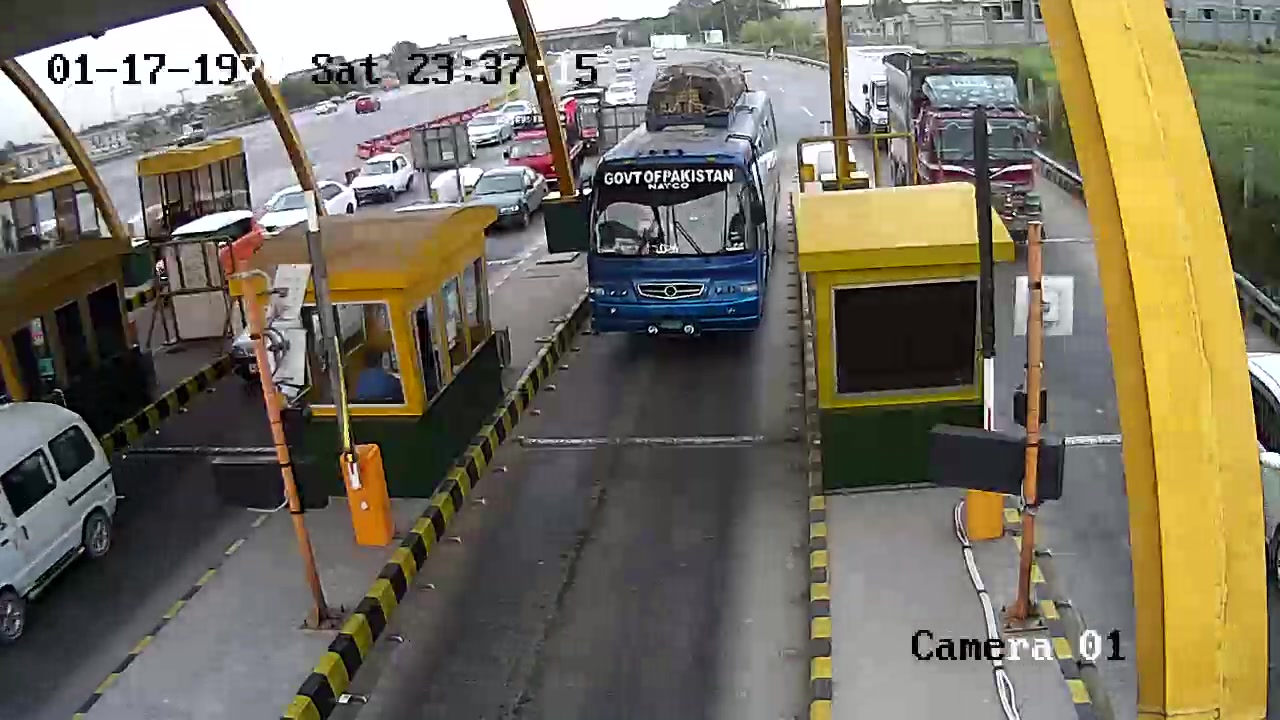F4: (579, 61, 794, 349)
